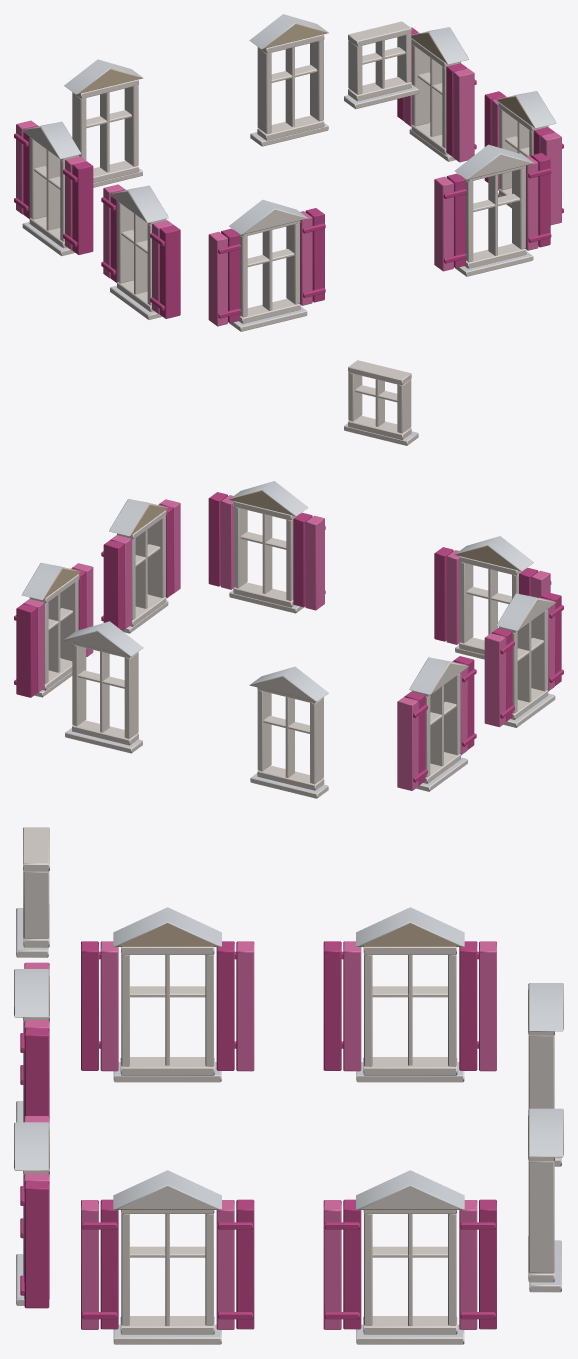
File: CandyHouse_Trim.glb
3 renders of one model, top to bottom at view 1: azimuth 30°, elevation 25°; view 2: azimuth 150°, elevation 25°; view 3: azimuth 270°, elevation 25°, orthographic. The views are drawn at different scales.
Parts seen in each view (by area): view 1: CandyHouse_Trim; view 2: CandyHouse_Trim; view 3: CandyHouse_Trim.
Part boxes in pixels (x1=…): CandyHouse_Trim: x1=14, y1=14, x2=563, y2=331; CandyHouse_Trim: x1=14, y1=360, x2=563, y2=798; CandyHouse_Trim: x1=14, y1=827, x2=563, y2=1344.
Size of the model in its own units: 24.4 by 14.81 by 20.4.
